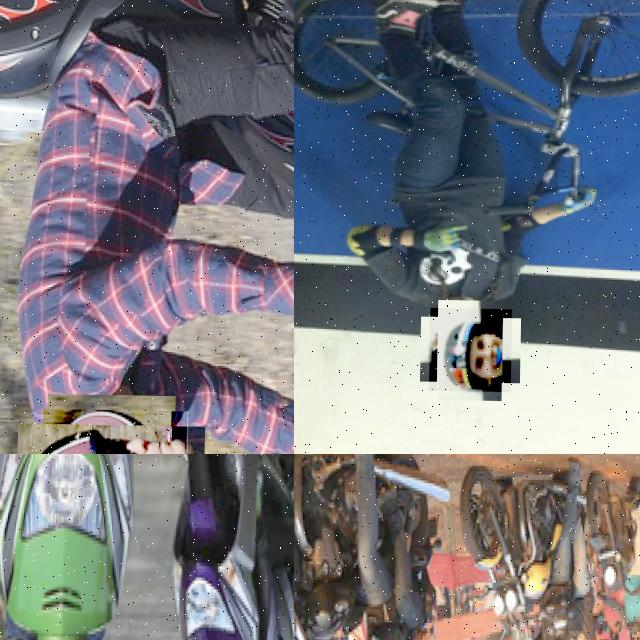helmet: (28, 407, 189, 454), (428, 306, 510, 391), (624, 620, 640, 640)
